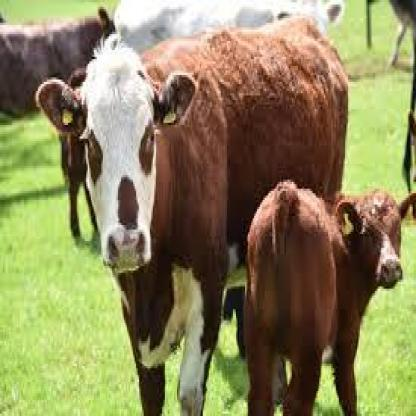cow: (36, 16, 348, 416), (249, 179, 416, 416), (0, 6, 126, 119), (111, 0, 344, 43)
